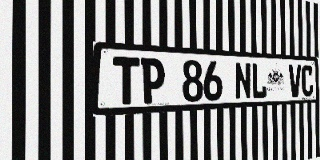6: (203, 60, 222, 101)
8: (182, 60, 203, 102)
C: (301, 65, 313, 97)
L: (251, 63, 267, 99)
N: (235, 62, 251, 100)
P: (141, 58, 165, 104)
T: (113, 56, 140, 105)
V: (289, 64, 301, 97)
